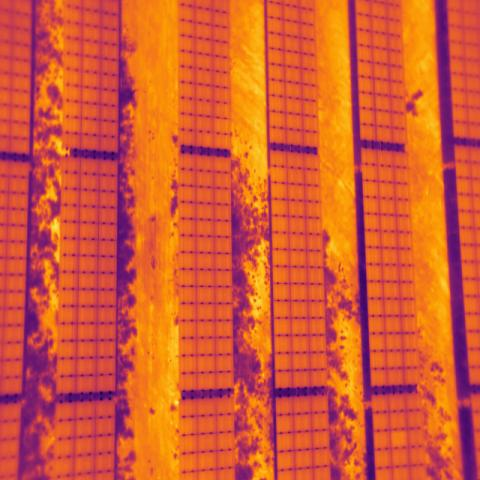fault: (391, 430, 408, 450)
